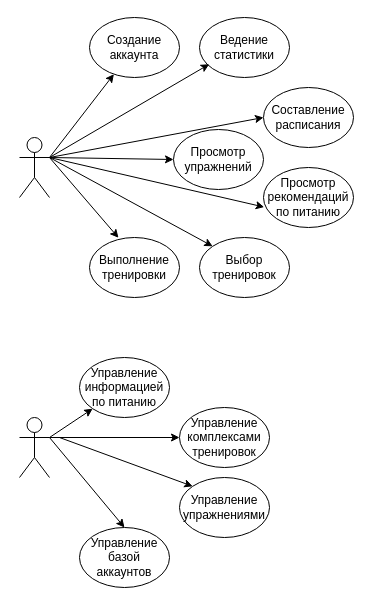
Some shapes in this 371 by 605 pixel diagram are drawn without their labels. The shapes that lost their labels are listed below. From the top down, each one's centre as x and y in pixels, then its label:
At point (34, 167): "User".
At point (34, 447): "Admin".
